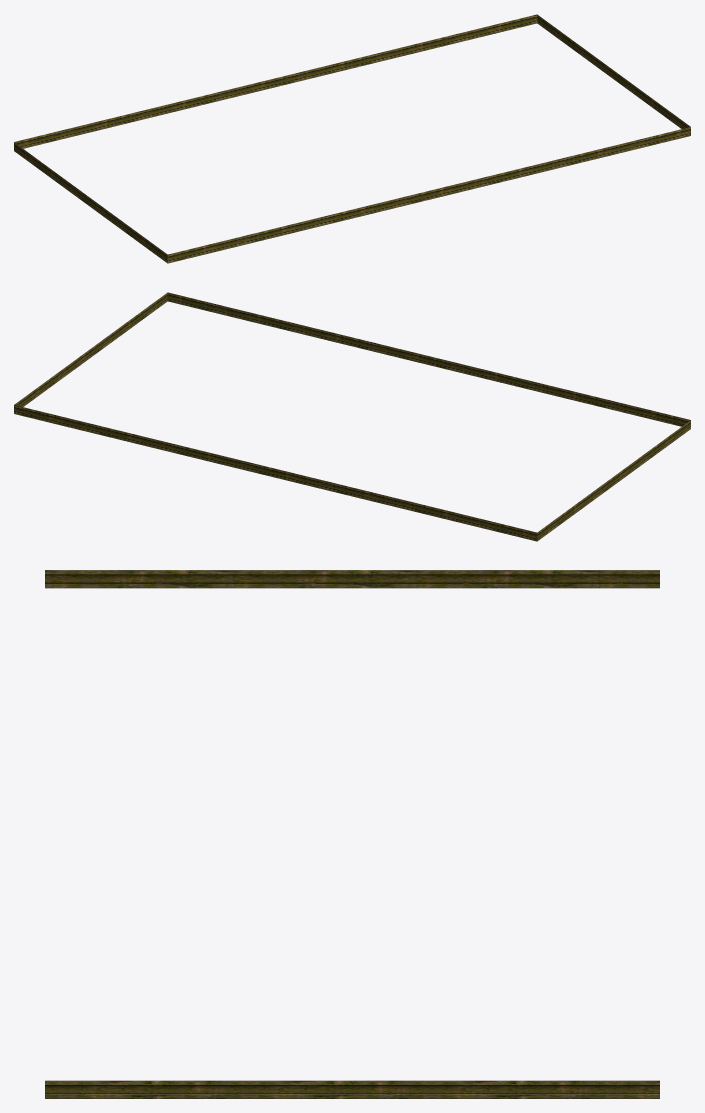
File: OVERHILL_A_01_LINE192.fbx
3 renders of one model, top to bottom at view 1: azimuth 30°, elevation 25°; view 2: azimuth 150°, elevation 25°; view 3: azimuth 270°, elevation 25°, orthographic. The views are drawn at different scales.
Parts seen in each view (by area): view 1: OVERHILL_A_01_LINE192; view 2: OVERHILL_A_01_LINE192; view 3: OVERHILL_A_01_LINE192.
Boxes of the visible parts, x1=… form: OVERHILL_A_01_LINE192: x1=14, y1=14, x2=690, y2=263; OVERHILL_A_01_LINE192: x1=14, y1=292, x2=690, y2=541; OVERHILL_A_01_LINE192: x1=45, y1=570, x2=659, y2=1098.
Size of the model in its own units: 154365 by 2548 by 78568.
Materials: 1 (1 with a texture image).
